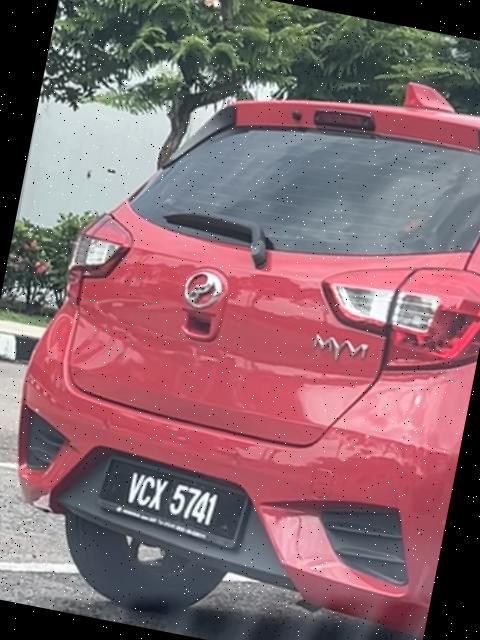License_Plate: (90, 450, 261, 563)
car: (1, 10, 480, 640)
